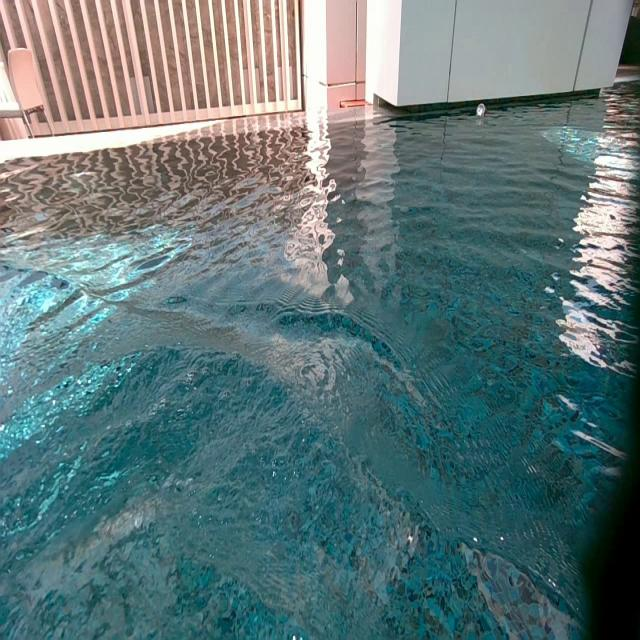Cans: (477, 103, 487, 116)
